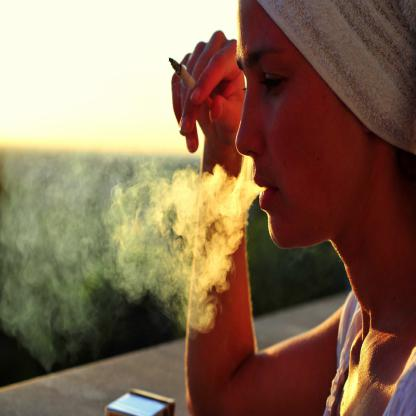smoking: (169, 57, 214, 108)
